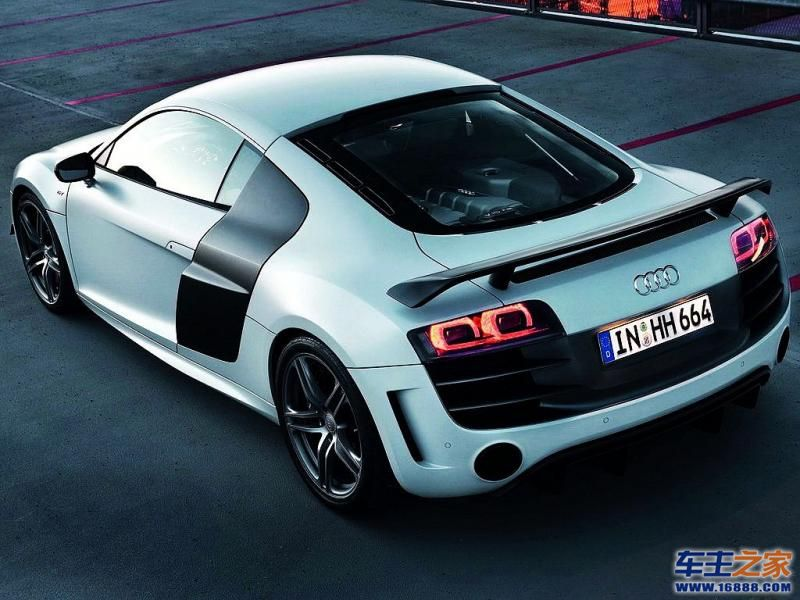front_view: (5, 128, 327, 306)
headlight: (120, 133, 304, 201)
side_glass: (444, 18, 688, 100)
